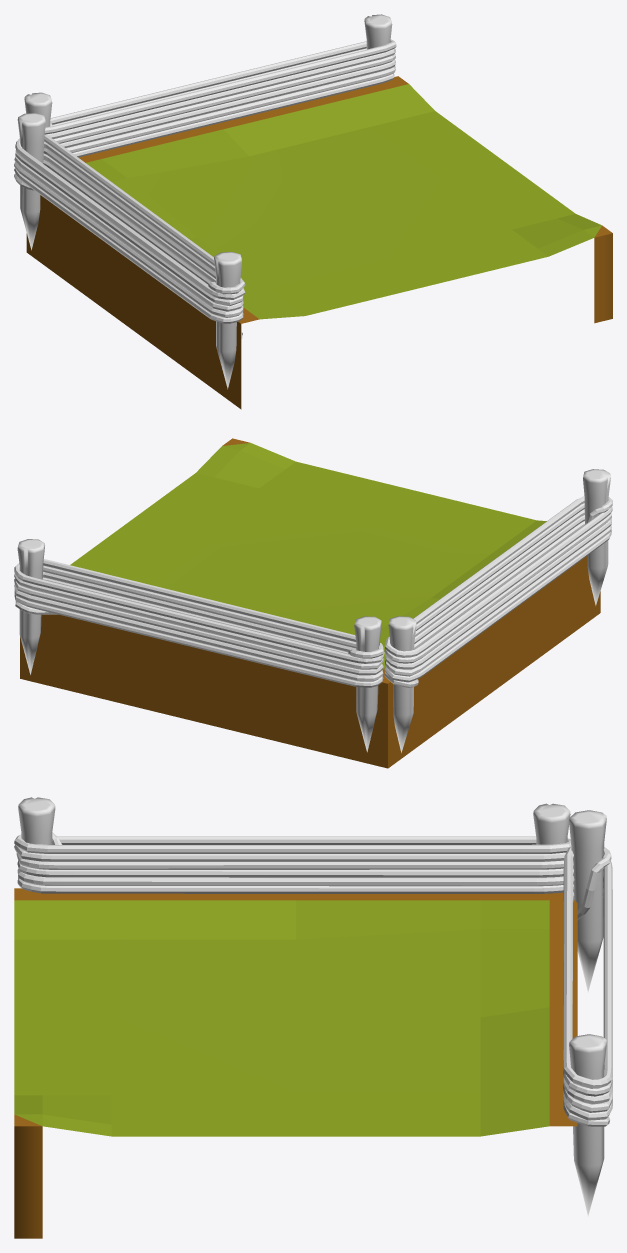
The model's file is Turn_Sloped02.fbx.
3 renders of one model, top to bottom at view 1: azimuth 30°, elevation 25°; view 2: azimuth 150°, elevation 25°; view 3: azimuth 270°, elevation 25°, orthographic. The views are drawn at different scales.
Visible parts, largest first — view 1: SM_Bld_Sign_04.008; view 2: SM_Bld_Sign_04.008; view 3: SM_Bld_Sign_04.008.
Part boxes in pixels (box(x1,y1,x2,y2)): SM_Bld_Sign_04.008: box(14, 14, 612, 409); SM_Bld_Sign_04.008: box(14, 438, 612, 768); SM_Bld_Sign_04.008: box(14, 797, 612, 1238).
Size of the model in its own units: 212 by 75.62 by 213.
